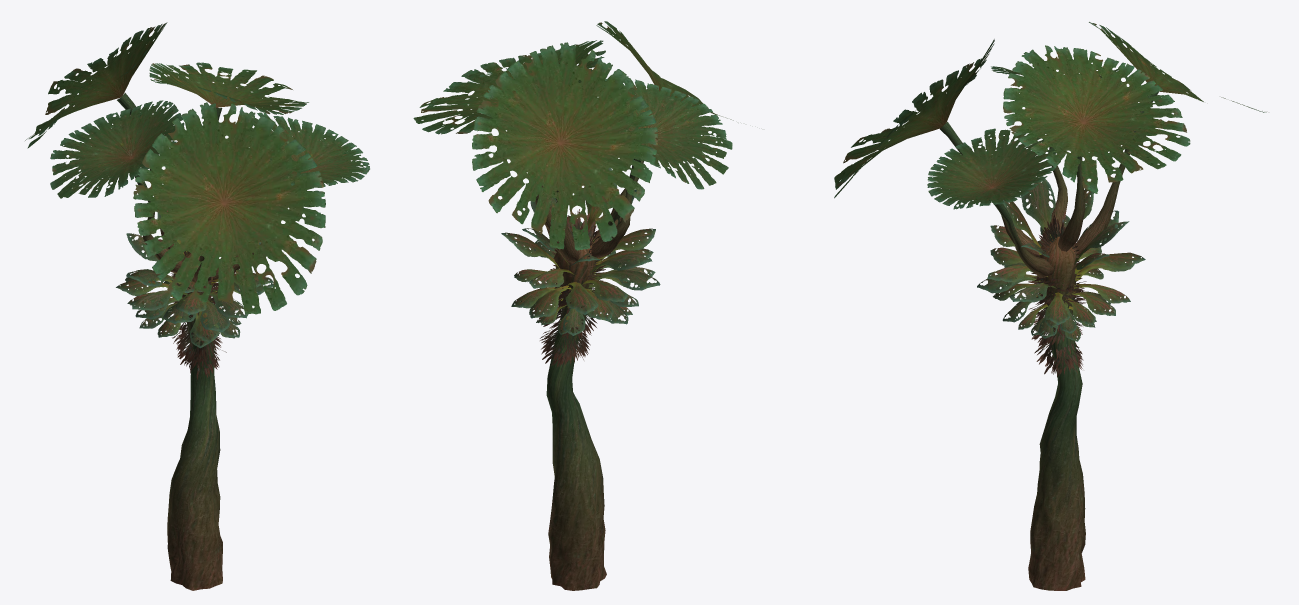
File: Plant - Alien Plant 02 1-DgFst7Y2.glb
3 views of the same model, side by side, from view 1: azimuth 30°, elevation 25°; view 2: azimuth 150°, elevation 25°; view 3: azimuth 270°, elevation 25° (orthographic). The views are drawn at different scales.
Parts seen in each view (by area): view 1: Plant2_1(Clone); view 2: Plant2_1(Clone); view 3: Plant2_1(Clone).
Part boxes in pixels (bbox=[...]): Plant2_1(Clone): bbox=[25, 22, 369, 590]; Plant2_1(Clone): bbox=[413, 21, 733, 590]; Plant2_1(Clone): bbox=[834, 22, 1266, 590].
Bounding box in the file's own units: 2.63 × 4.87 × 3.65.
2 materials, 2 textured.
